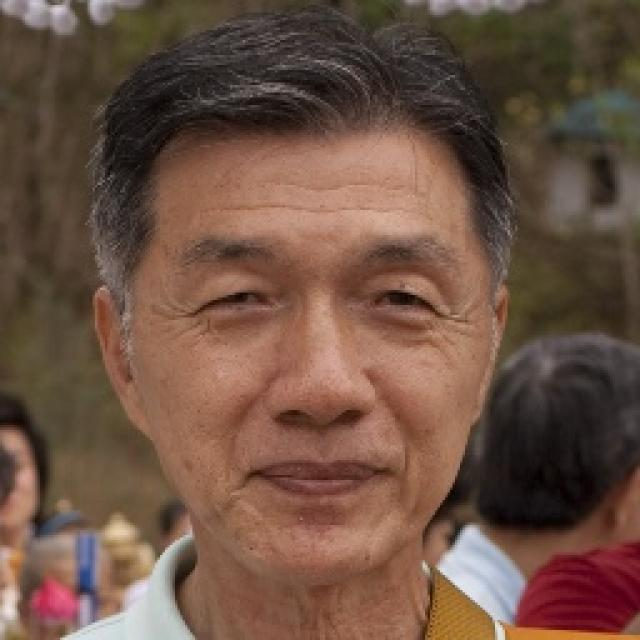earlobe: (91, 284, 153, 436), (473, 284, 510, 424)
